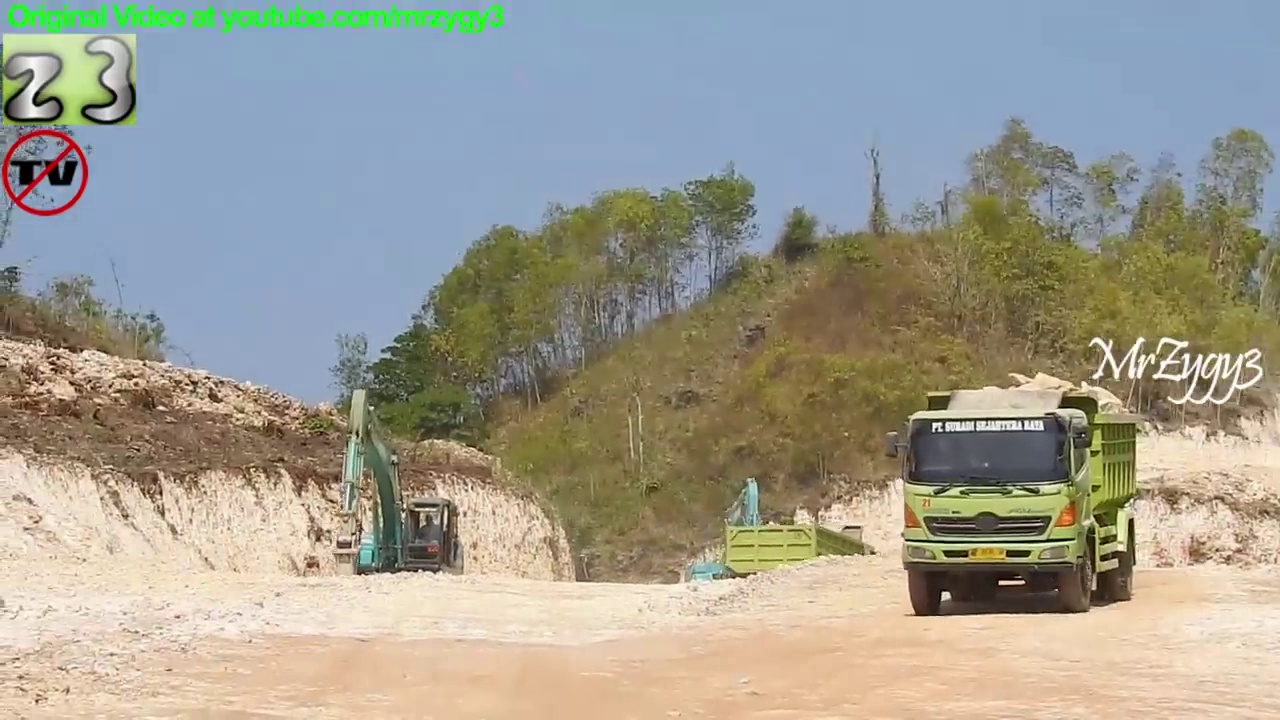excavator: (322, 382, 471, 599), (677, 471, 785, 605)
truck: (881, 383, 1146, 621), (720, 519, 889, 600)
